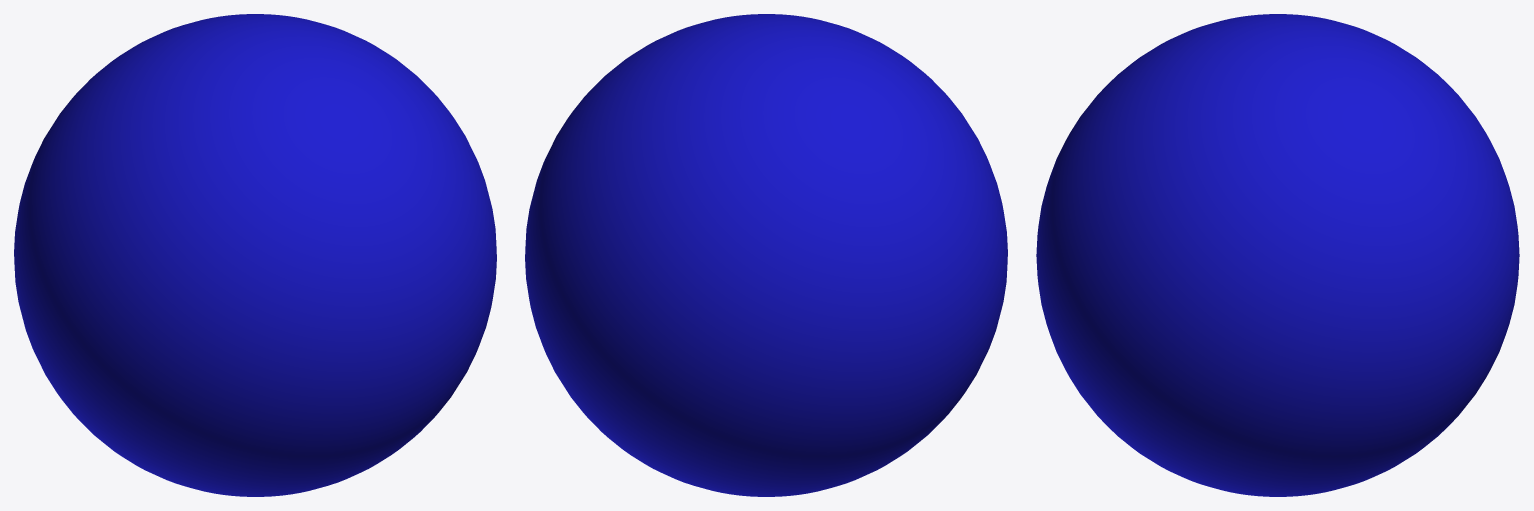
The model's file is unit_sphere.obj.
3 views of the same model, side by side, from view 1: azimuth 30°, elevation 25°; view 2: azimuth 150°, elevation 25°; view 3: azimuth 270°, elevation 25° (orthographic).
Visible parts, largest first — view 1: mesh 1 unit; view 2: mesh 1 unit; view 3: mesh 1 unit.
Part boxes in pixels (x1=…): mesh 1 unit: x1=14, y1=14, x2=496, y2=496; mesh 1 unit: x1=525, y1=14, x2=1007, y2=496; mesh 1 unit: x1=1036, y1=14, x2=1519, y2=496.
Bounding box in the file's own units: 1 × 1 × 1.
